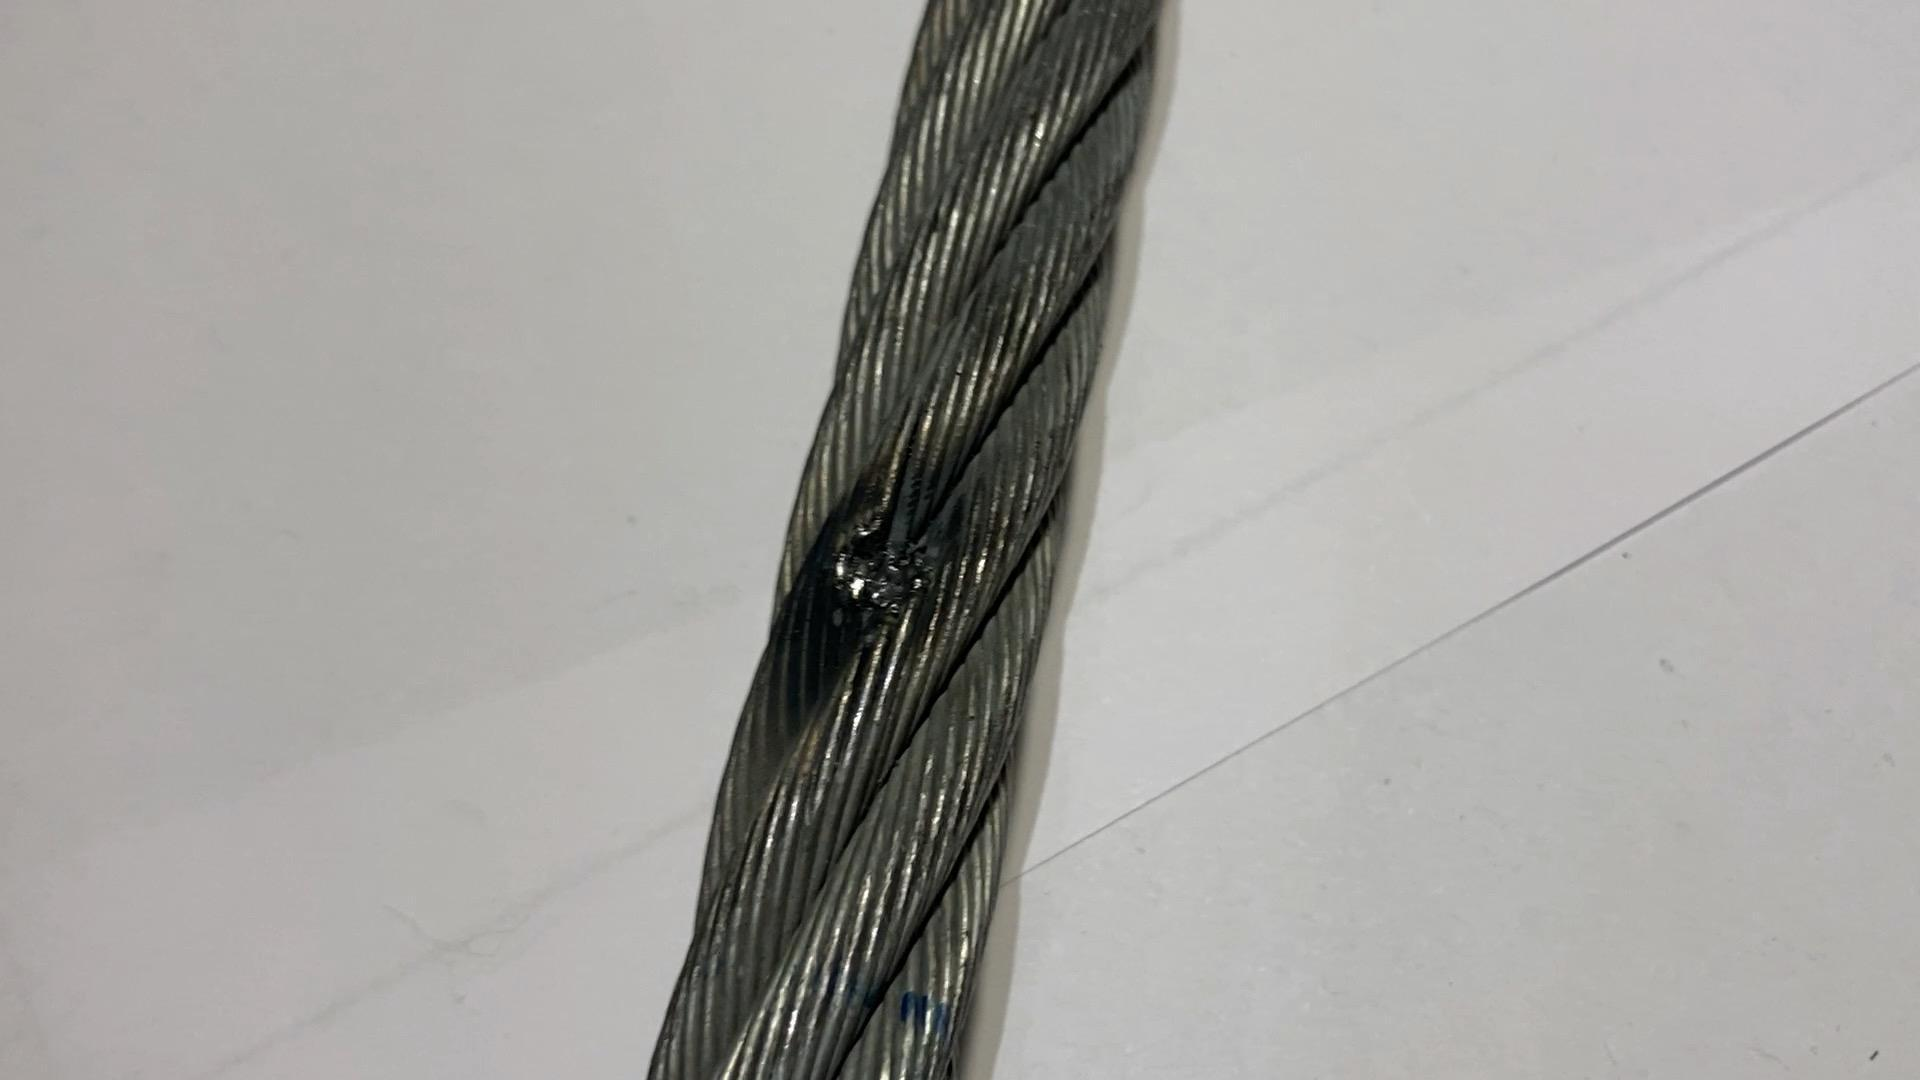thunderbolt: (800, 510, 990, 620)
